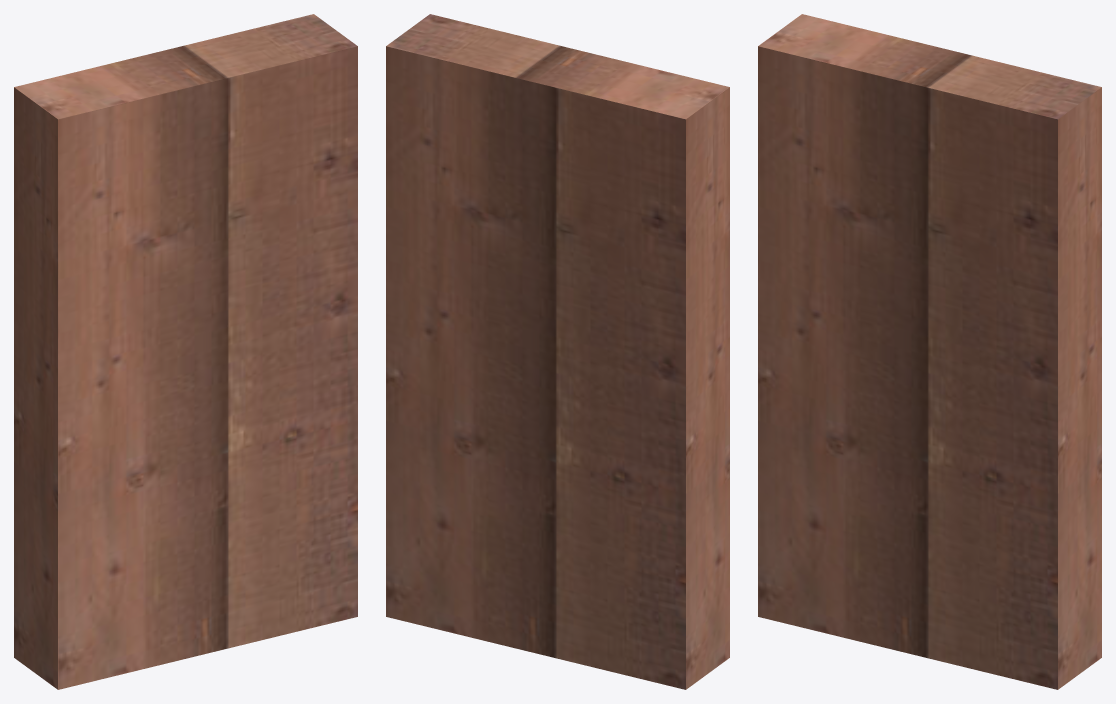
File: door_wood.glb
3 views of the same model, side by side, from view 1: azimuth 30°, elevation 25°; view 2: azimuth 150°, elevation 25°; view 3: azimuth 330°, elevation 25° (orthographic).
Parts seen in each view (by area): view 1: door; view 2: door; view 3: door.
Part boxes in pixels (x1,y1,x2,y2): door: (14, 14, 357, 689); door: (386, 14, 729, 689); door: (758, 14, 1101, 689).
Size of the model in its own units: 0.55 by 1 by 0.14.
1 material, 1 textured.
